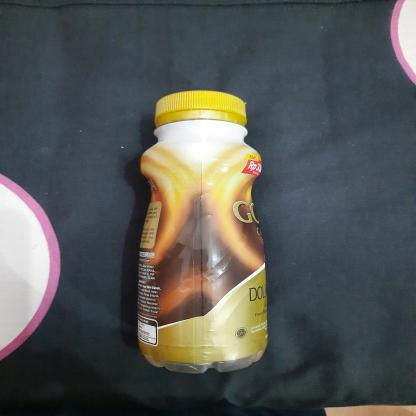bottle: (130, 86, 274, 376)
